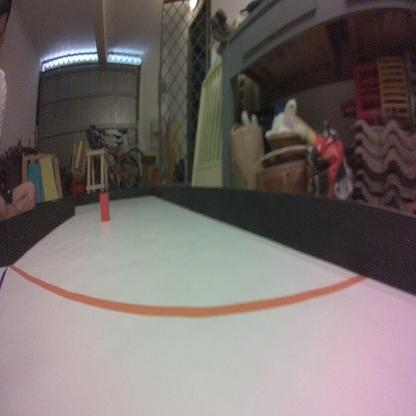red: (98, 189, 110, 220)
